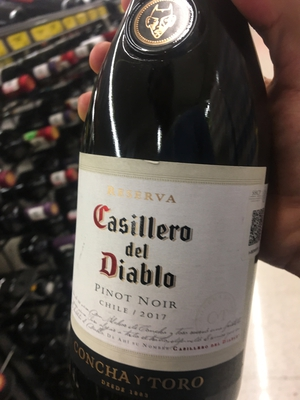casillero del diablo pinot noir: (55, 22, 262, 400)
